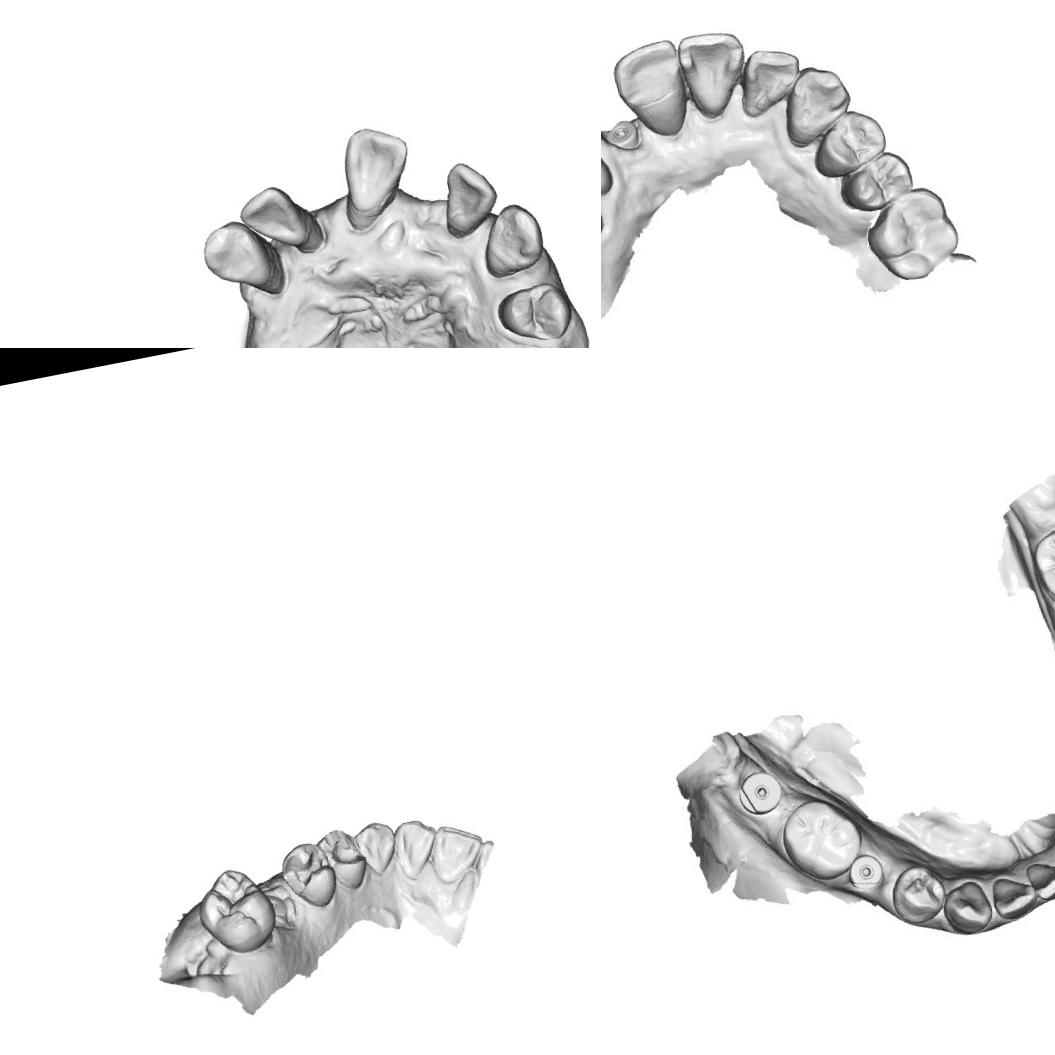canine: (769, 58, 858, 150), (195, 213, 278, 298), (473, 197, 550, 282), (942, 874, 1000, 935), (351, 818, 402, 878)
implant: (734, 760, 788, 820), (601, 111, 648, 159), (845, 848, 889, 899)
incisor: (609, 36, 696, 140), (332, 119, 419, 217), (676, 26, 756, 125), (232, 179, 311, 260), (433, 155, 504, 239), (734, 40, 807, 112), (422, 818, 490, 886), (390, 814, 443, 880), (988, 867, 1038, 919), (1024, 857, 1055, 901)
molar: (860, 179, 965, 288), (190, 860, 284, 960), (776, 794, 867, 884), (1027, 521, 1055, 602)
premolar: (803, 102, 888, 182), (492, 275, 578, 348), (833, 148, 920, 218), (274, 836, 342, 912), (887, 858, 952, 931), (314, 824, 372, 894)
